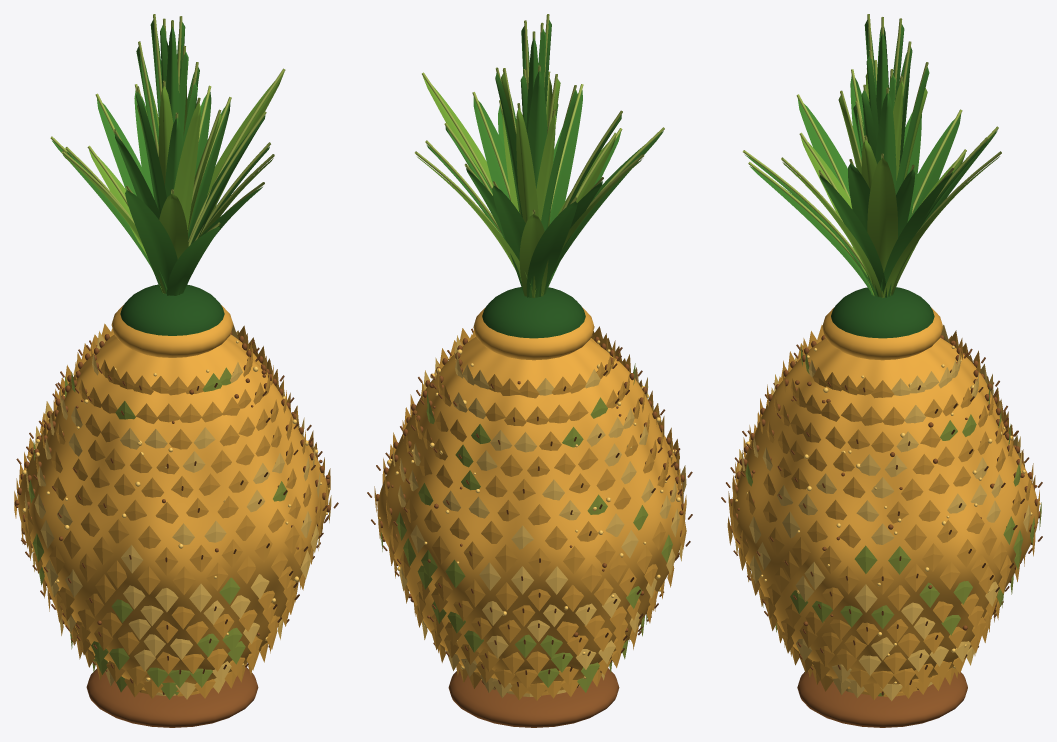
The model's file is PIÑA.glb.
3 renders of one model, left to right at view 1: azimuth 30°, elevation 25°; view 2: azimuth 150°, elevation 25°; view 3: azimuth 270°, elevation 25°, orthographic.
Visible parts, largest first — view 1: PINA | Cuerpo principal, Base inferior de la pina, Nucleo de corona, Cuello superior, Hoja exterior 12, Hoja interior 10, Hoja exterior 14, Hoja exterior 13, Hoja interior 07, Hoja exterior 06, Hoja exterior 02, Hoja exterior 01 (+12 smaller); view 2: PINA | Cuerpo principal, Base inferior de la pina, Nucleo de corona, Cuello superior, Hoja exterior 08, Hoja interior 04, Hoja interior 05, Hoja exterior 18, Hoja exterior 06, Hoja exterior 15, Hoja exterior 07, Hoja exterior 01 (+7 smaller); view 3: PINA | Cuerpo principal, Base inferior de la pina, Nucleo de corona, Cuello superior, Hoja exterior 01, Hoja exterior 17, Hoja exterior 08, Hoja exterior 03, Hoja exterior 12, Hoja interior 01, Hoja exterior 18, Hoja exterior 14 (+11 smaller).
Part boxes in pixels (<box>): PINA | Cuerpo principal: <box>17,334,328,692</box>; Base inferior de la pina: <box>86,667,258,727</box>; Nucleo de corona: <box>120,284,224,335</box>; Cuello superior: <box>111,305,233,357</box>; Hoja exterior 12: <box>125,190,180,294</box>; Hoja interior 10: <box>174,102,200,229</box>; Hoja exterior 14: <box>167,227,219,295</box>; Hoja exterior 13: <box>158,193,188,293</box>; Hoja interior 07: <box>136,91,166,213</box>; Hoja exterior 06: <box>97,98,142,195</box>; Hoja exterior 02: <box>188,101,230,239</box>; Hoja exterior 01: <box>207,72,284,214</box>; PINA | Cuerpo principal: <box>377,337,683,693</box>; Base inferior de la pina: <box>448,668,619,727</box>; Nucleo de corona: <box>482,287,585,338</box>; Cuello superior: <box>473,307,594,360</box>; Hoja exterior 08: <box>526,201,577,297</box>; Hoja interior 04: <box>516,108,538,223</box>; Hoja interior 05: <box>527,70,547,188</box>; Hoja exterior 18: <box>473,97,509,199</box>; Hoja exterior 06: <box>492,185,541,296</box>; Hoja exterior 15: <box>549,90,582,224</box>; Hoja exterior 07: <box>519,214,548,297</box>; Hoja exterior 01: <box>423,76,493,186</box>; PINA | Cuerpo principal: <box>730,337,1038,693</box>; Base inferior de la pina: <box>797,671,967,727</box>; Nucleo de corona: <box>831,287,934,338</box>; Cuello superior: <box>822,307,943,360</box>; Hoja exterior 01: <box>867,157,897,295</box>; Hoja exterior 17: <box>819,174,886,297</box>; Hoja exterior 08: <box>893,113,961,294</box>; Hoja exterior 03: <box>880,172,952,297</box>; Hoja exterior 12: <box>798,99,872,294</box>; Hoja interior 01: <box>875,93,896,188</box>; Hoja exterior 18: <box>848,163,891,296</box>; Hoja exterior 14: <box>749,166,872,295</box>.
Bounding box in the file's own units: 2.05 × 4.89 × 2.07.
